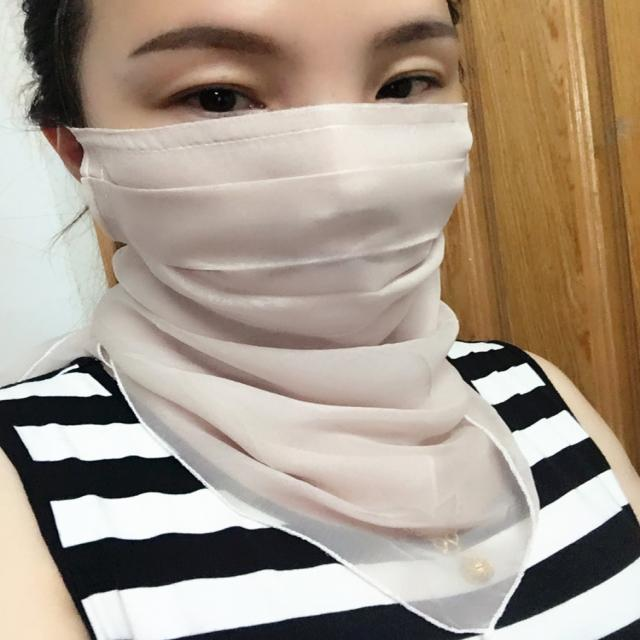mask: (90, 0, 485, 360)
